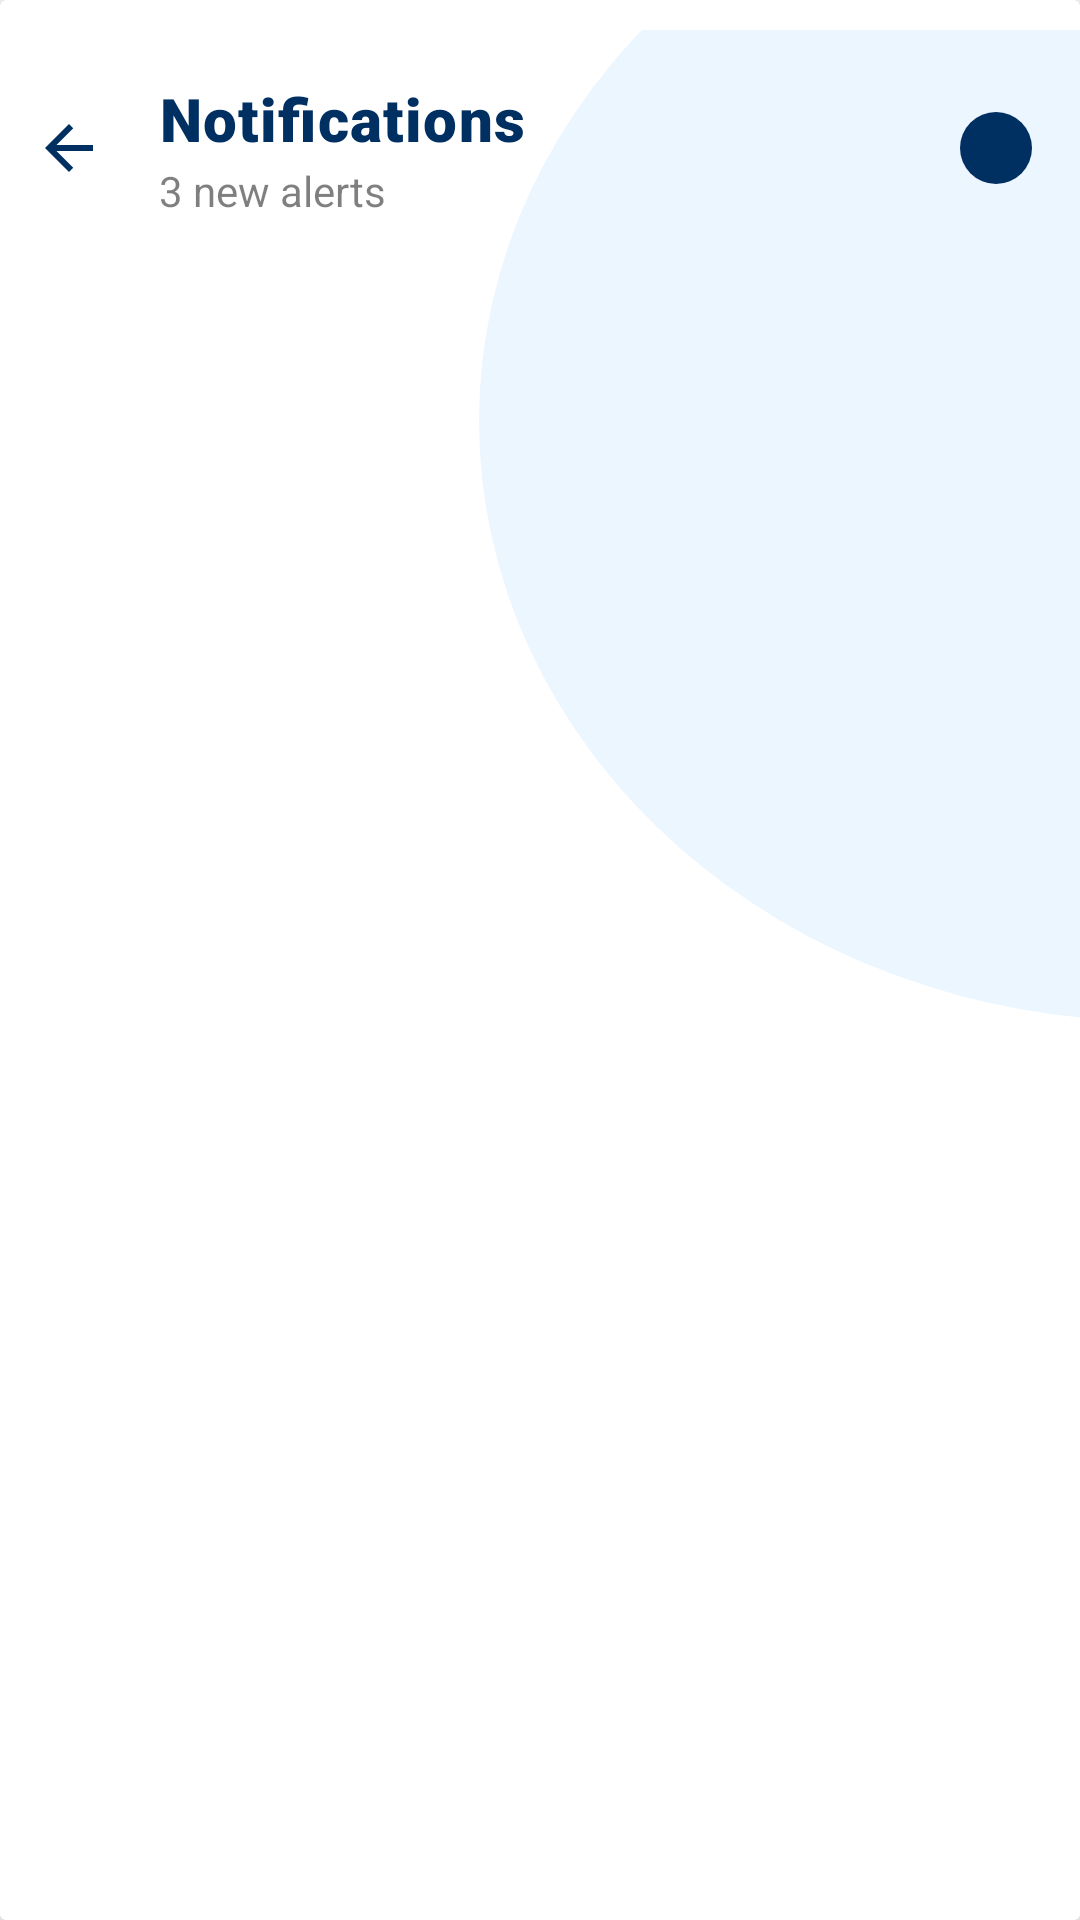

Icons on this 1080 x 1920 Android screen, each with its box as (x1, y1, x2, y2):
arrow back: (45, 124, 93, 172)
